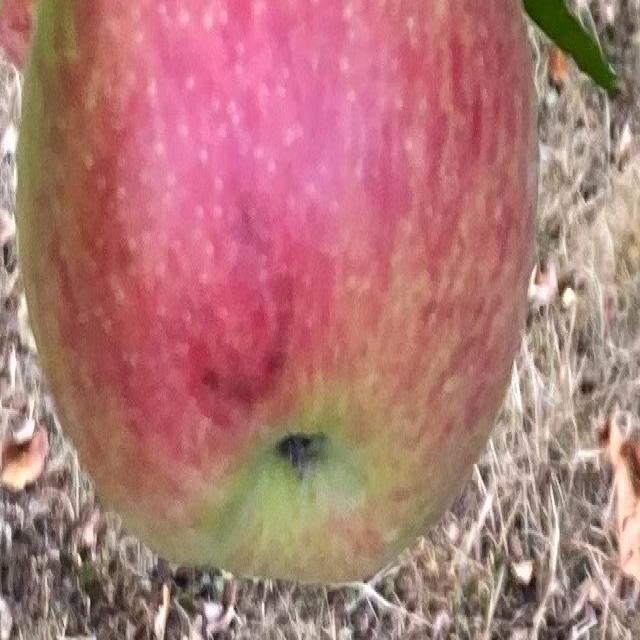100-_ripeness: (18, 0, 539, 580)
